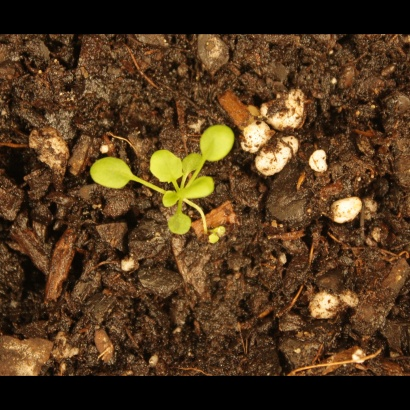leaf: (199, 116, 239, 165), (89, 154, 135, 192), (145, 149, 187, 184), (180, 175, 218, 202), (166, 211, 195, 240), (158, 191, 181, 214), (182, 152, 205, 175)
